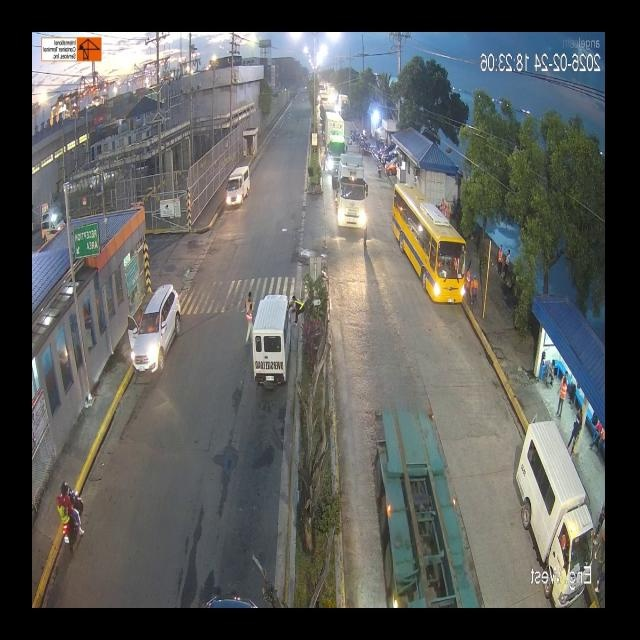bus: (391, 188, 467, 308)
car: (509, 434, 597, 570), (250, 295, 293, 405), (128, 281, 172, 384), (226, 160, 250, 211)
motorcycle: (48, 470, 90, 558)
truck: (157, 393, 483, 606), (325, 150, 369, 238), (321, 107, 349, 175), (338, 93, 351, 119)
